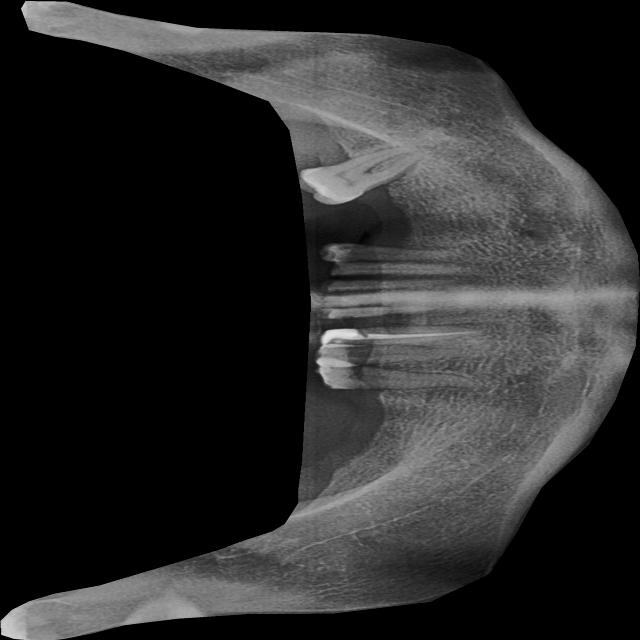mandibula: (0, 0, 640, 640)
